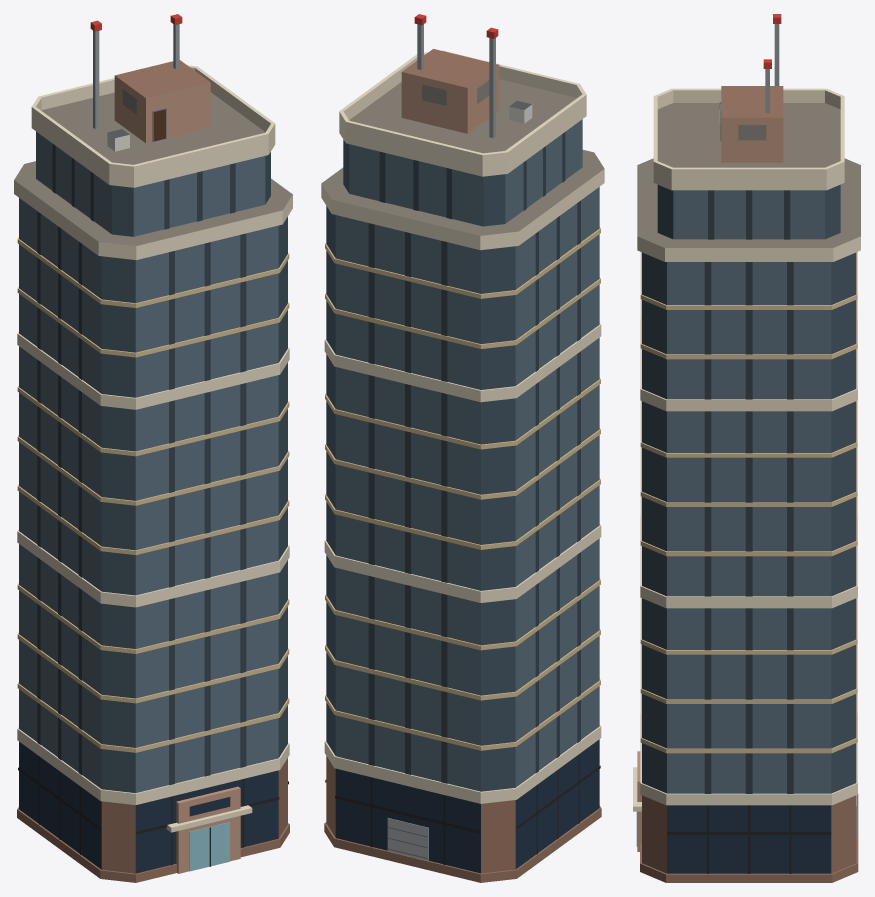
Rendered from gedung_08.glb.
3 renders of one model, left to right at view 1: azimuth 30°, elevation 25°; view 2: azimuth 150°, elevation 25°; view 3: azimuth 270°, elevation 25°, orthographic.
Visible parts, largest first — view 1: gedung_08; view 2: gedung_08; view 3: gedung_08.
Boxes of the visible parts, <box> form: gedung_08: <box>14,14,292,882</box>; gedung_08: <box>321,14,604,882</box>; gedung_08: <box>633,14,860,882</box>.
Size of the model in its own units: 14.4 by 56.85 by 14.68.
